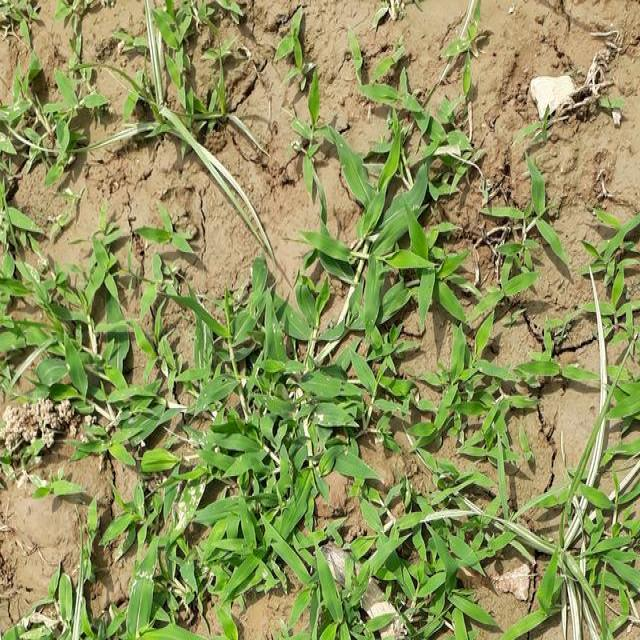weed: (15, 233, 640, 640), (116, 0, 269, 177)
